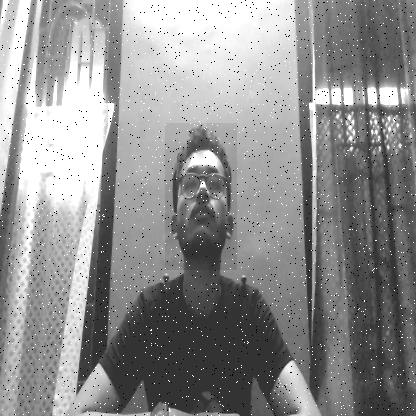Distracted: (165, 123, 237, 270)
